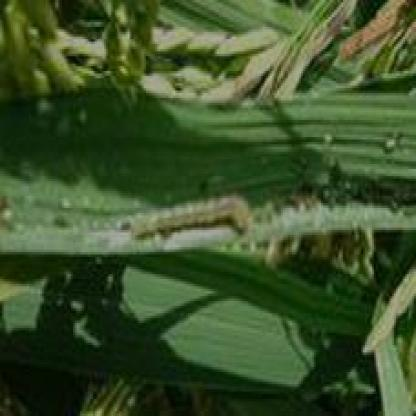leaf-folder: (126, 192, 260, 248)
